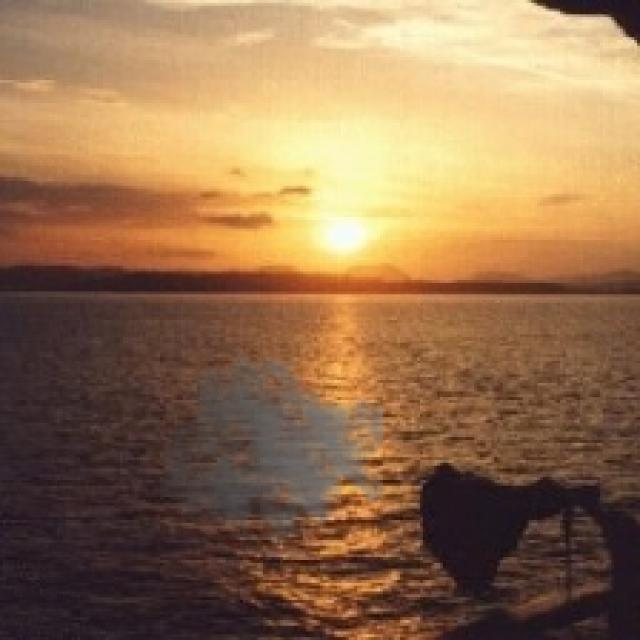smoke: (157, 346, 383, 563)
